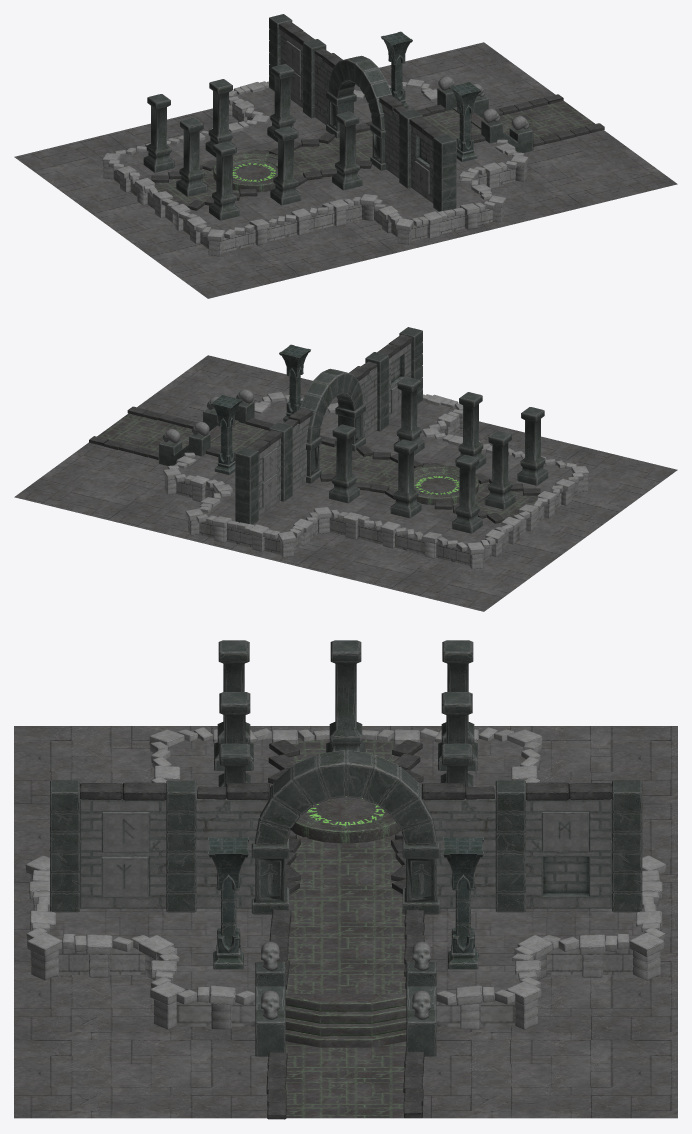
3 views of the same model, one above another, from view 1: azimuth 30°, elevation 25°; view 2: azimuth 150°, elevation 25°; view 3: azimuth 270°, elevation 25° (orthographic). The views are drawn at different scales.
Visible parts, largest first — view 1: floor_down1, floor_grey1, column_16, floor_green2:floor_green2, brick_floor41, polySurface18, wall_LP6, wall_down1, brick_floor_column39, Column4:Group59516, polySurface129, column_wall9:column_wall (+9 smaller); view 2: floor_down1, floor_grey1, column_16, floor_green2:floor_green2, brick_floor41, polySurface18, wall_LP6, wall_down1, brick_floor_column39, Column4:Group59516, polySurface129, column_wall8 (+9 smaller); view 3: floor_down1, floor_green2:floor_green2, floor_grey1, wall_LP6, column_16, brick_floor41, polySurface129, polySurface18, Column4:Group59516, stairs_LP3, wall_down1, brick_floor_column39 (+14 smaller).
Boxes of the visible parts, x1,y1,x2,y2 form: floor_down1: [14, 42, 677, 298]; floor_grey1: [119, 87, 512, 232]; column_16: [143, 64, 362, 220]; floor_green2:floor_green2: [154, 100, 594, 206]; brick_floor41: [102, 79, 528, 241]; polySurface18: [108, 81, 524, 238]; wall_LP6: [280, 30, 433, 203]; wall_down1: [113, 105, 515, 252]; brick_floor_column39: [103, 104, 527, 256]; Column4:Group59516: [381, 31, 481, 161]; polySurface129: [328, 55, 391, 130]; column_wall9:column_wall: [433, 134, 456, 211]; floor_down1: [14, 355, 677, 611]; floor_grey1: [179, 400, 572, 545]; column_16: [329, 377, 548, 533]; floor_green2:floor_green2: [97, 413, 537, 519]; brick_floor41: [163, 392, 589, 554]; polySurface18: [167, 394, 583, 551]; wall_LP6: [258, 343, 411, 516]; wall_down1: [176, 418, 578, 565]; brick_floor_column39: [164, 417, 588, 569]; Column4:Group59516: [210, 344, 310, 474]; polySurface129: [300, 368, 363, 443]; column_wall8: [235, 447, 258, 524]; floor_down1: [14, 726, 677, 1118]; floor_green2:floor_green2: [285, 738, 406, 1117]; floor_grey1: [47, 738, 644, 994]; wall_LP6: [80, 792, 611, 908]; column_16: [214, 640, 477, 786]; brick_floor41: [25, 729, 666, 1005]; polySurface129: [254, 750, 437, 845]; polySurface18: [26, 727, 665, 1005]; Column4:Group59516: [208, 837, 483, 969]; stairs_LP3: [285, 993, 406, 1047]; wall_down1: [58, 948, 633, 1026]; brick_floor_column39: [31, 752, 660, 1029].
Size of the model in its own units: 30.55 by 6.54 by 21.79.
Materials: 22 (22 with a texture image).
